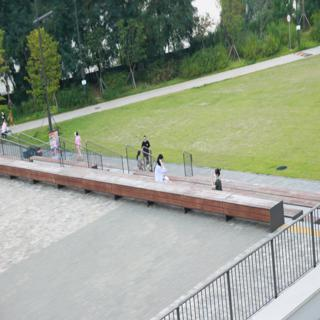person: (154, 153, 175, 189), (72, 125, 91, 161), (138, 132, 152, 170), (210, 162, 226, 194)
